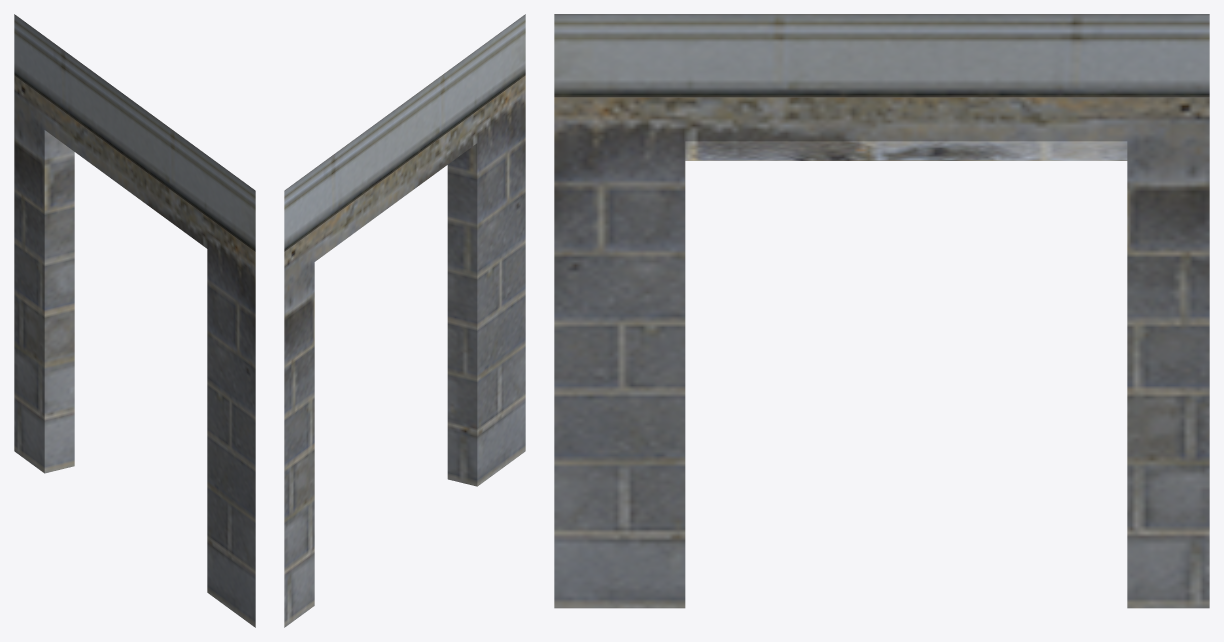
File: men.FBX
3 views of the same model, side by side, from view 1: azimuth 30°, elevation 25°; view 2: azimuth 150°, elevation 25°; view 3: azimuth 270°, elevation 25° (orthographic). The views are drawn at different scales.
Parts seen in each view (by area): view 1: Wall-SimpleCSmallDoor; view 2: Wall-SimpleCSmallDoor; view 3: Wall-SimpleCSmallDoor.
Boxes of the visible parts, x1,y1,x2,y2 form: Wall-SimpleCSmallDoor: [14, 14, 255, 627]; Wall-SimpleCSmallDoor: [284, 14, 525, 627]; Wall-SimpleCSmallDoor: [554, 14, 1209, 608].
Bounding box in the file's own units: 25 × 350 × 350.
